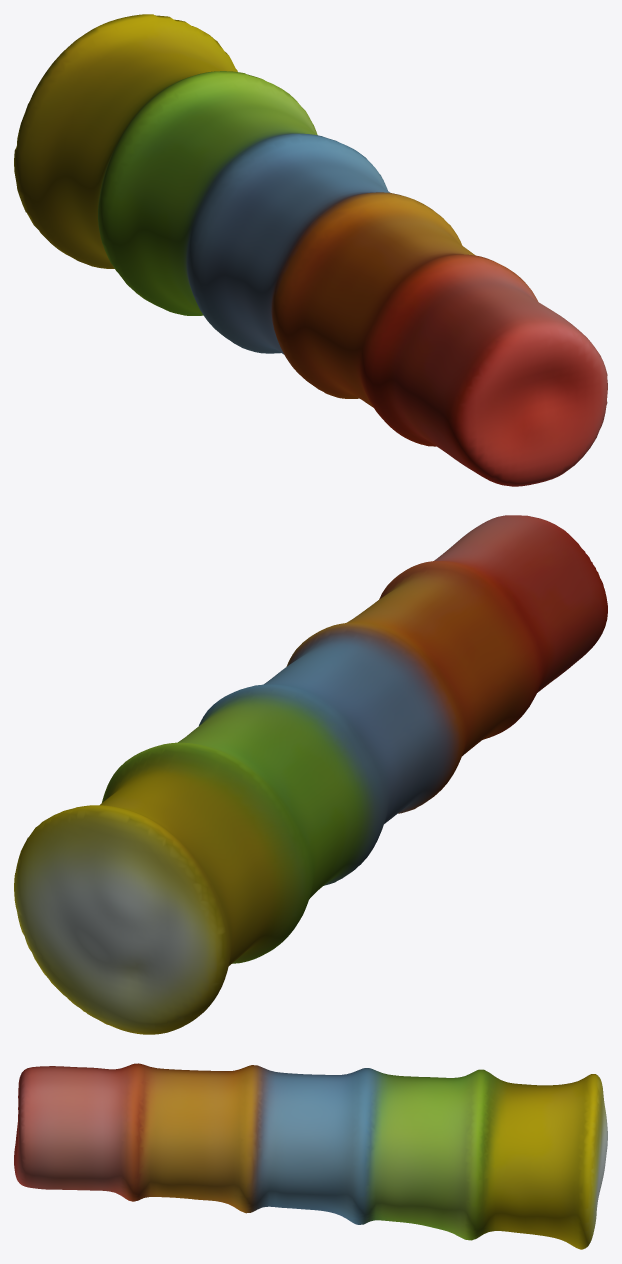
File: stucking_cups.glb
The picture shows the model from 3 angles, top to bottom: view 1: azimuth 30°, elevation 25°; view 2: azimuth 150°, elevation 25°; view 3: azimuth 270°, elevation 25°; orthographic projection. The views are drawn at different scales.
Size of the model in its own units: 0.2959 by 0.3138 by 0.9998.
